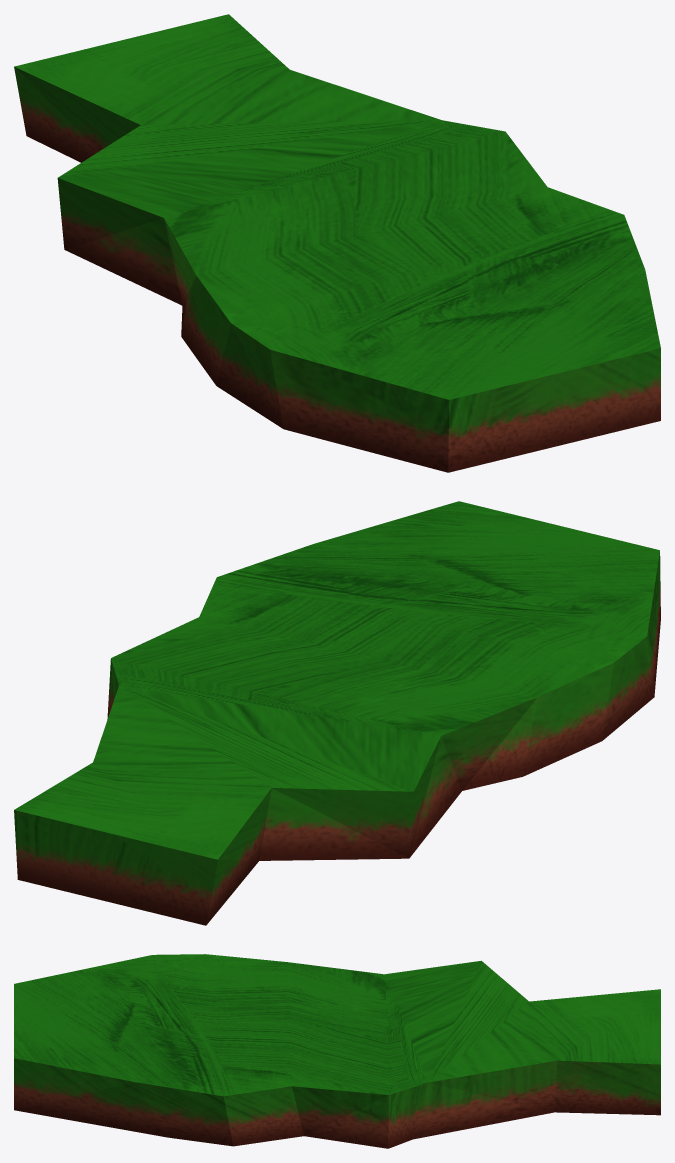
The model's file is LandBridge.002.fbx.
3 views of the same model, one above another, from view 1: azimuth 30°, elevation 25°; view 2: azimuth 150°, elevation 25°; view 3: azimuth 270°, elevation 25° (orthographic). The views are drawn at different scales.
Visible parts, largest first — view 1: LandBridge.002; view 2: LandBridge.002; view 3: LandBridge.002.
Boxes of the visible parts, x1=… form: LandBridge.002: x1=14, y1=14, x2=660, y2=472; LandBridge.002: x1=14, y1=501, x2=660, y2=925; LandBridge.002: x1=14, y1=954, x2=660, y2=1148.
Size of the model in its own units: 860 by 146 by 1646.
